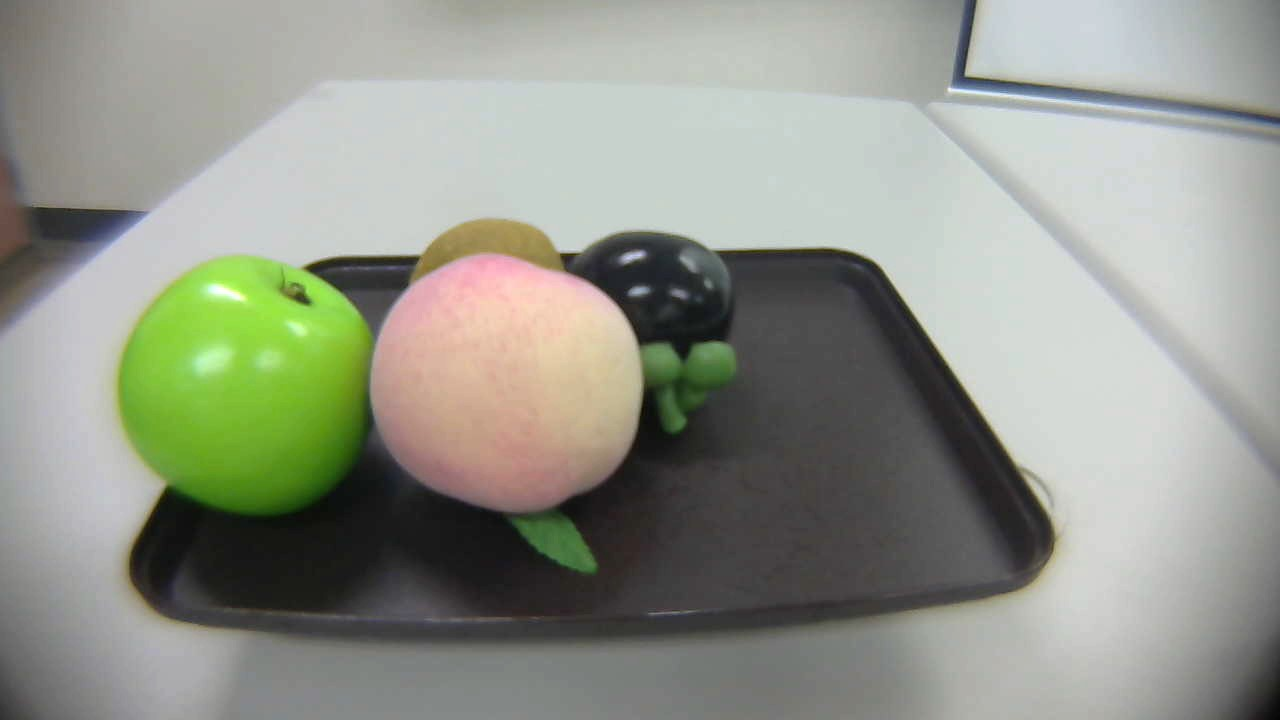green apple: (110, 254, 383, 523)
kiwi fruit: (394, 207, 565, 294)
mangosteen: (566, 230, 743, 443)
peach: (367, 249, 652, 593)
